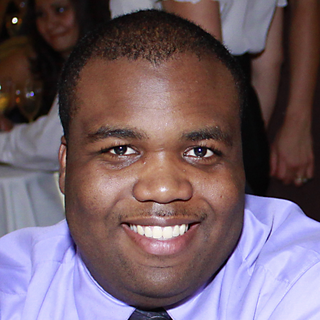eye: (95, 139, 144, 164), (178, 140, 225, 166)
